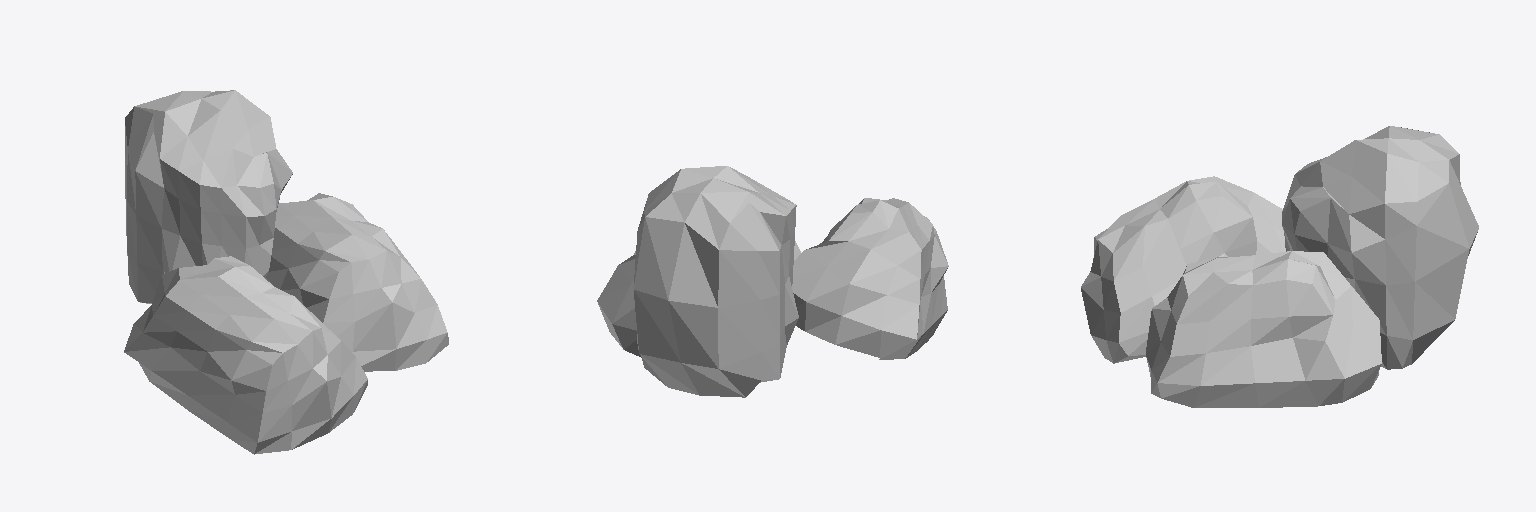
Rendered from Rocks.obj.
The picture shows the model from 3 angles: view 1: azimuth 30°, elevation 25°; view 2: azimuth 150°, elevation 25°; view 3: azimuth 270°, elevation 25°; orthographic projection.
Bounding box in the file's own units: 0.474 × 0.3816 × 0.582.